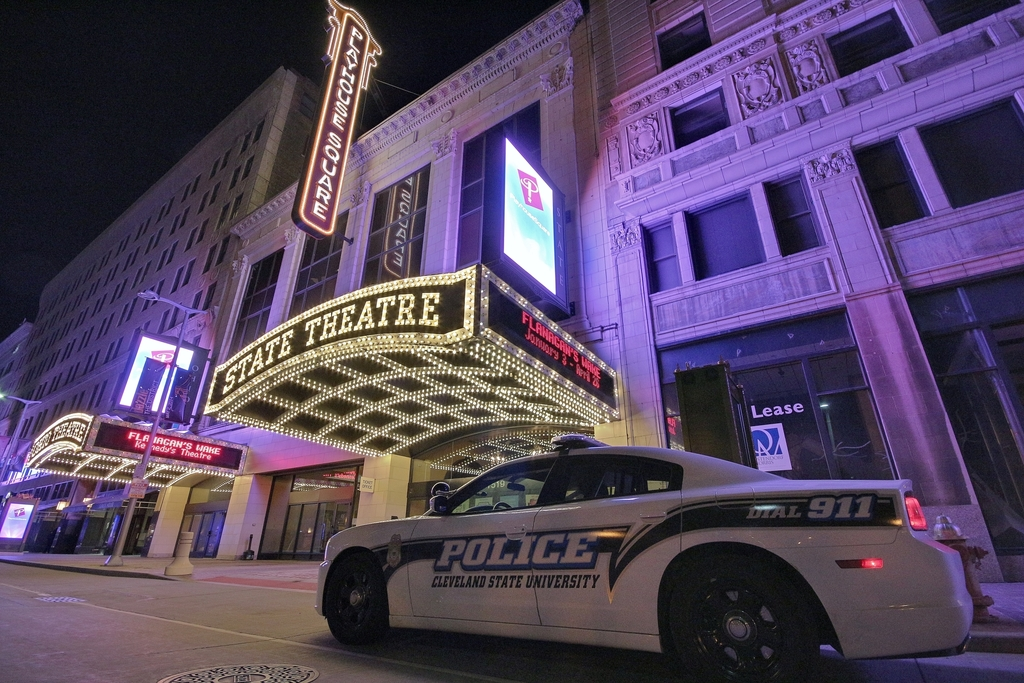Car: (304, 434, 995, 672)
